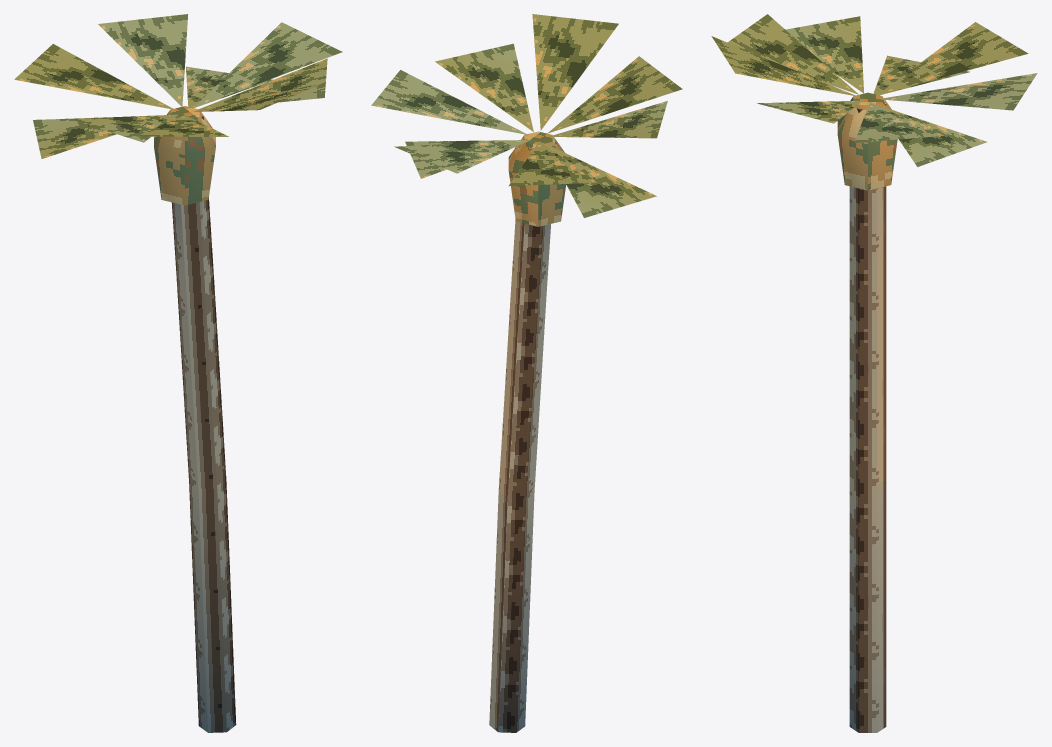
The model's file is wland.palm__tall.glb.
The picture shows the model from 3 angles, left to right: view 1: azimuth 30°, elevation 25°; view 2: azimuth 150°, elevation 25°; view 3: azimuth 270°, elevation 25°; orthographic projection. The views are drawn at different scales.
Visible parts, largest first — view 1: kit_card_fronds_back, kit_trunks, kit_skirts; view 2: kit_card_fronds_back, kit_trunks, kit_skirts; view 3: kit_card_fronds_back, kit_trunks, kit_skirts.
Boxes of the visible parts, x1,y1,x2,y2 form: kit_card_fronds_back: (14, 14, 342, 158); kit_trunks: (171, 114, 236, 732); kit_skirts: (154, 106, 215, 205); kit_card_fronds_back: (371, 14, 682, 217); kit_trunks: (489, 142, 556, 732); kit_skirts: (508, 131, 566, 226); kit_card_fronds_back: (711, 14, 1037, 166); kit_trunks: (849, 103, 886, 732); kit_skirts: (837, 92, 897, 190).
Bounding box in the file's own units: 3.86 × 8.87 × 3.9.
3 materials, 3 textured.
